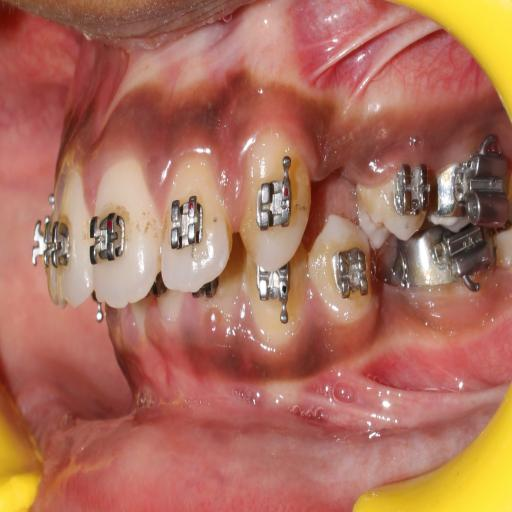correct_brace: (354, 154, 432, 257), (165, 192, 208, 256), (88, 206, 130, 271)
incorrect_brace: (160, 153, 234, 302), (391, 160, 431, 215)
